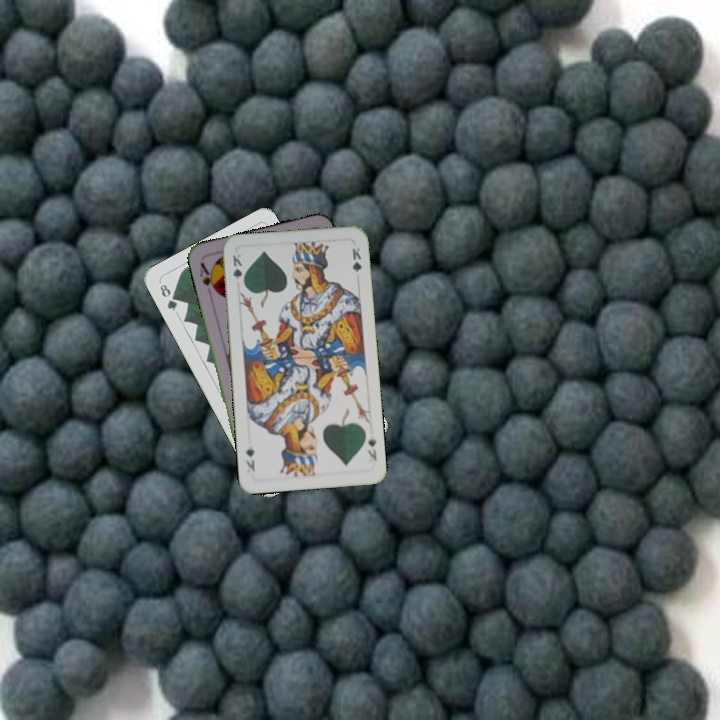G8: (155, 280, 180, 314)
GK: (229, 250, 247, 289), (364, 431, 379, 463)
SA: (196, 258, 219, 295)
